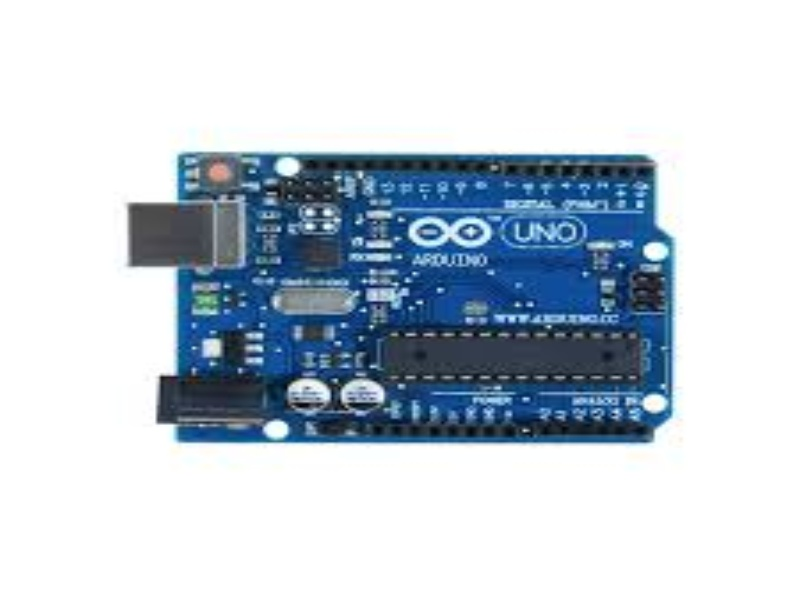uno: (131, 141, 676, 444)
